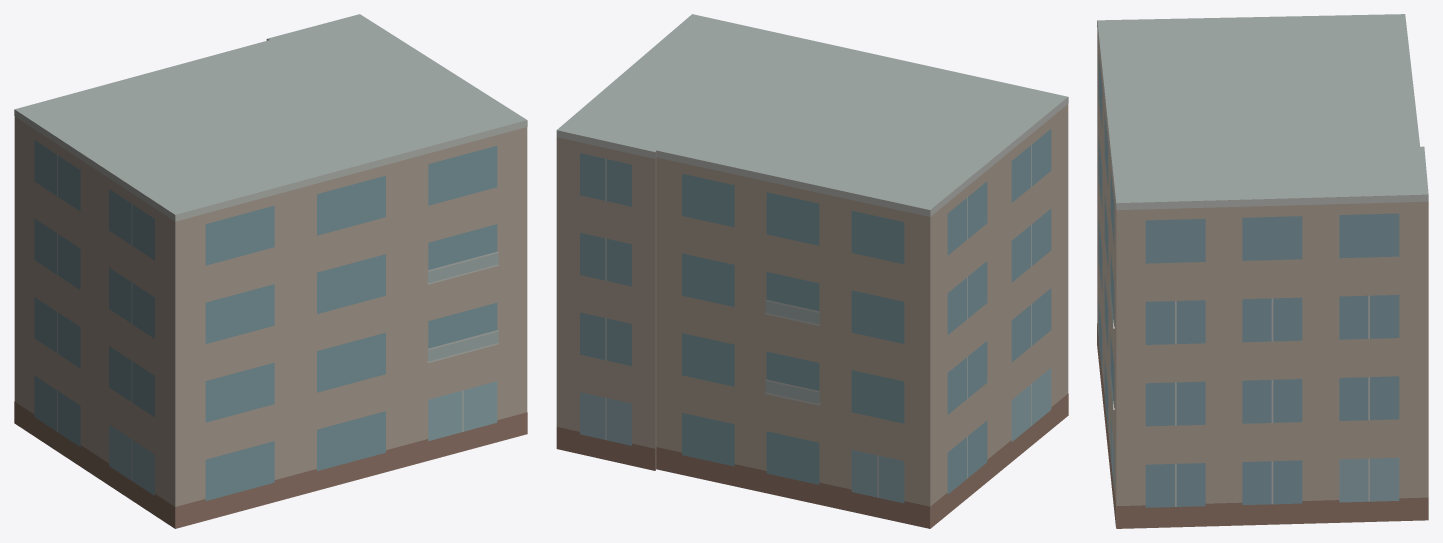
Rendered from survey-upis-32462147.glb.
The picture shows the model from 3 angles, left to right: view 1: azimuth 30°, elevation 25°; view 2: azimuth 150°, elevation 25°; view 3: azimuth 270°, elevation 25°; orthographic projection. The views are drawn at different scales.
Parts seen in each view (by area): view 1: survey-upis-32462147.tmp; view 2: survey-upis-32462147.tmp; view 3: survey-upis-32462147.tmp.
Boxes of the visible parts, x1=… form: survey-upis-32462147.tmp: x1=14, y1=14, x2=527, y2=528; survey-upis-32462147.tmp: x1=556, y1=14, x2=1068, y2=528; survey-upis-32462147.tmp: x1=1097, y1=14, x2=1428, y2=528.
Size of the model in its own units: 14.09 by 11.3 by 10.43.
